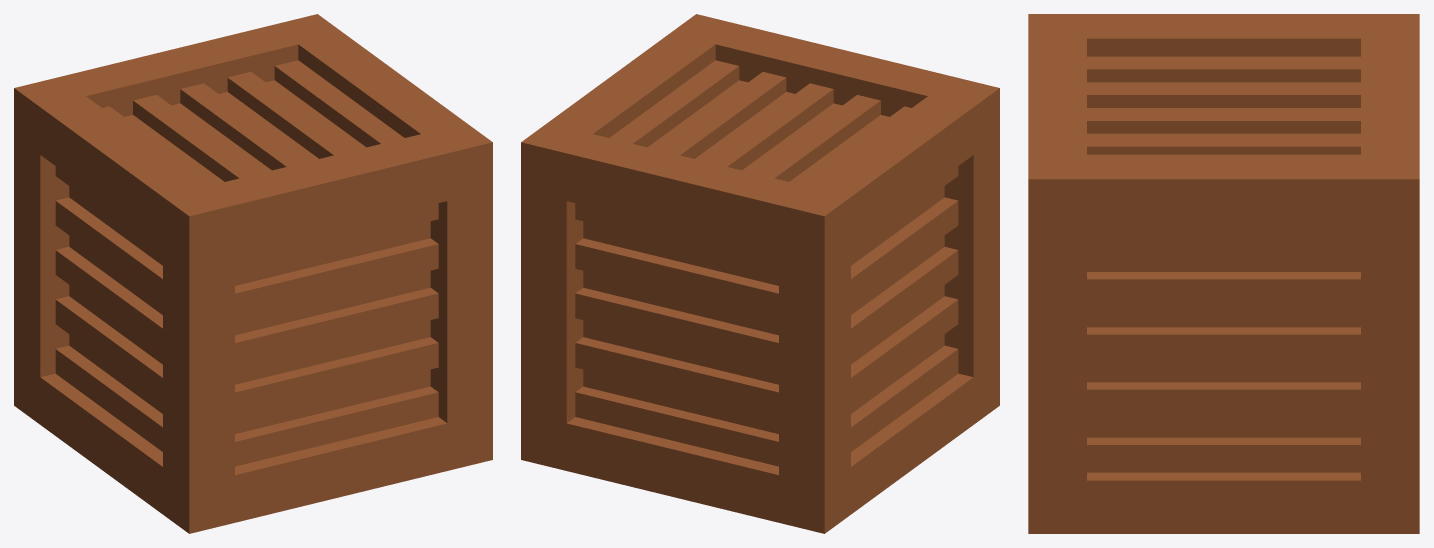
The model's file is logbox.fbx.
3 views of the same model, side by side, from view 1: azimuth 30°, elevation 25°; view 2: azimuth 150°, elevation 25°; view 3: azimuth 270°, elevation 25° (orthographic). The views are drawn at different scales.
Visible parts, largest first — view 1: box; view 2: box; view 3: box.
Part boxes in pixels (bbox=[...]): box: bbox=[14, 14, 492, 533]; box: bbox=[521, 14, 999, 533]; box: bbox=[1028, 14, 1419, 533].
Size of the model in its own units: 200 by 200 by 200.
